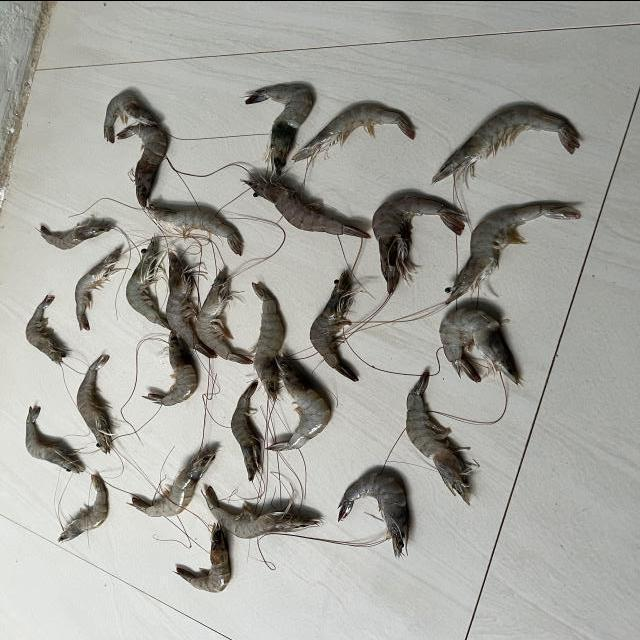shrimp: (446, 203, 581, 303), (433, 107, 580, 181), (406, 371, 479, 505), (372, 195, 465, 292), (243, 172, 371, 237), (292, 104, 415, 161), (204, 486, 321, 538), (244, 84, 312, 173), (267, 354, 330, 450), (440, 308, 520, 383), (127, 449, 215, 516), (338, 473, 408, 557), (194, 268, 252, 363), (165, 250, 216, 357), (309, 271, 358, 381), (145, 204, 241, 254), (74, 247, 128, 329), (141, 330, 197, 405), (116, 122, 166, 206), (125, 236, 169, 328), (24, 406, 83, 473), (174, 523, 229, 593), (251, 282, 283, 401), (76, 354, 111, 453), (57, 474, 106, 542), (230, 380, 261, 481), (24, 294, 64, 364), (102, 91, 156, 141), (38, 224, 109, 248)
